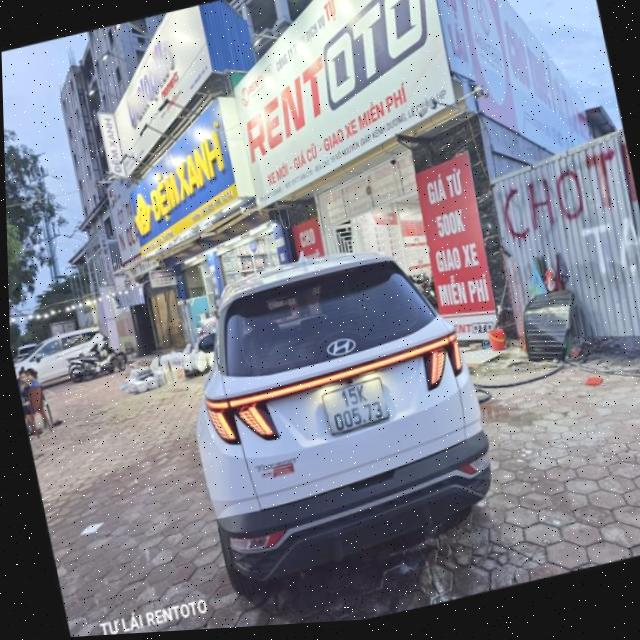car: (165, 227, 512, 608), (10, 319, 111, 397)
plate: (310, 367, 399, 440)
